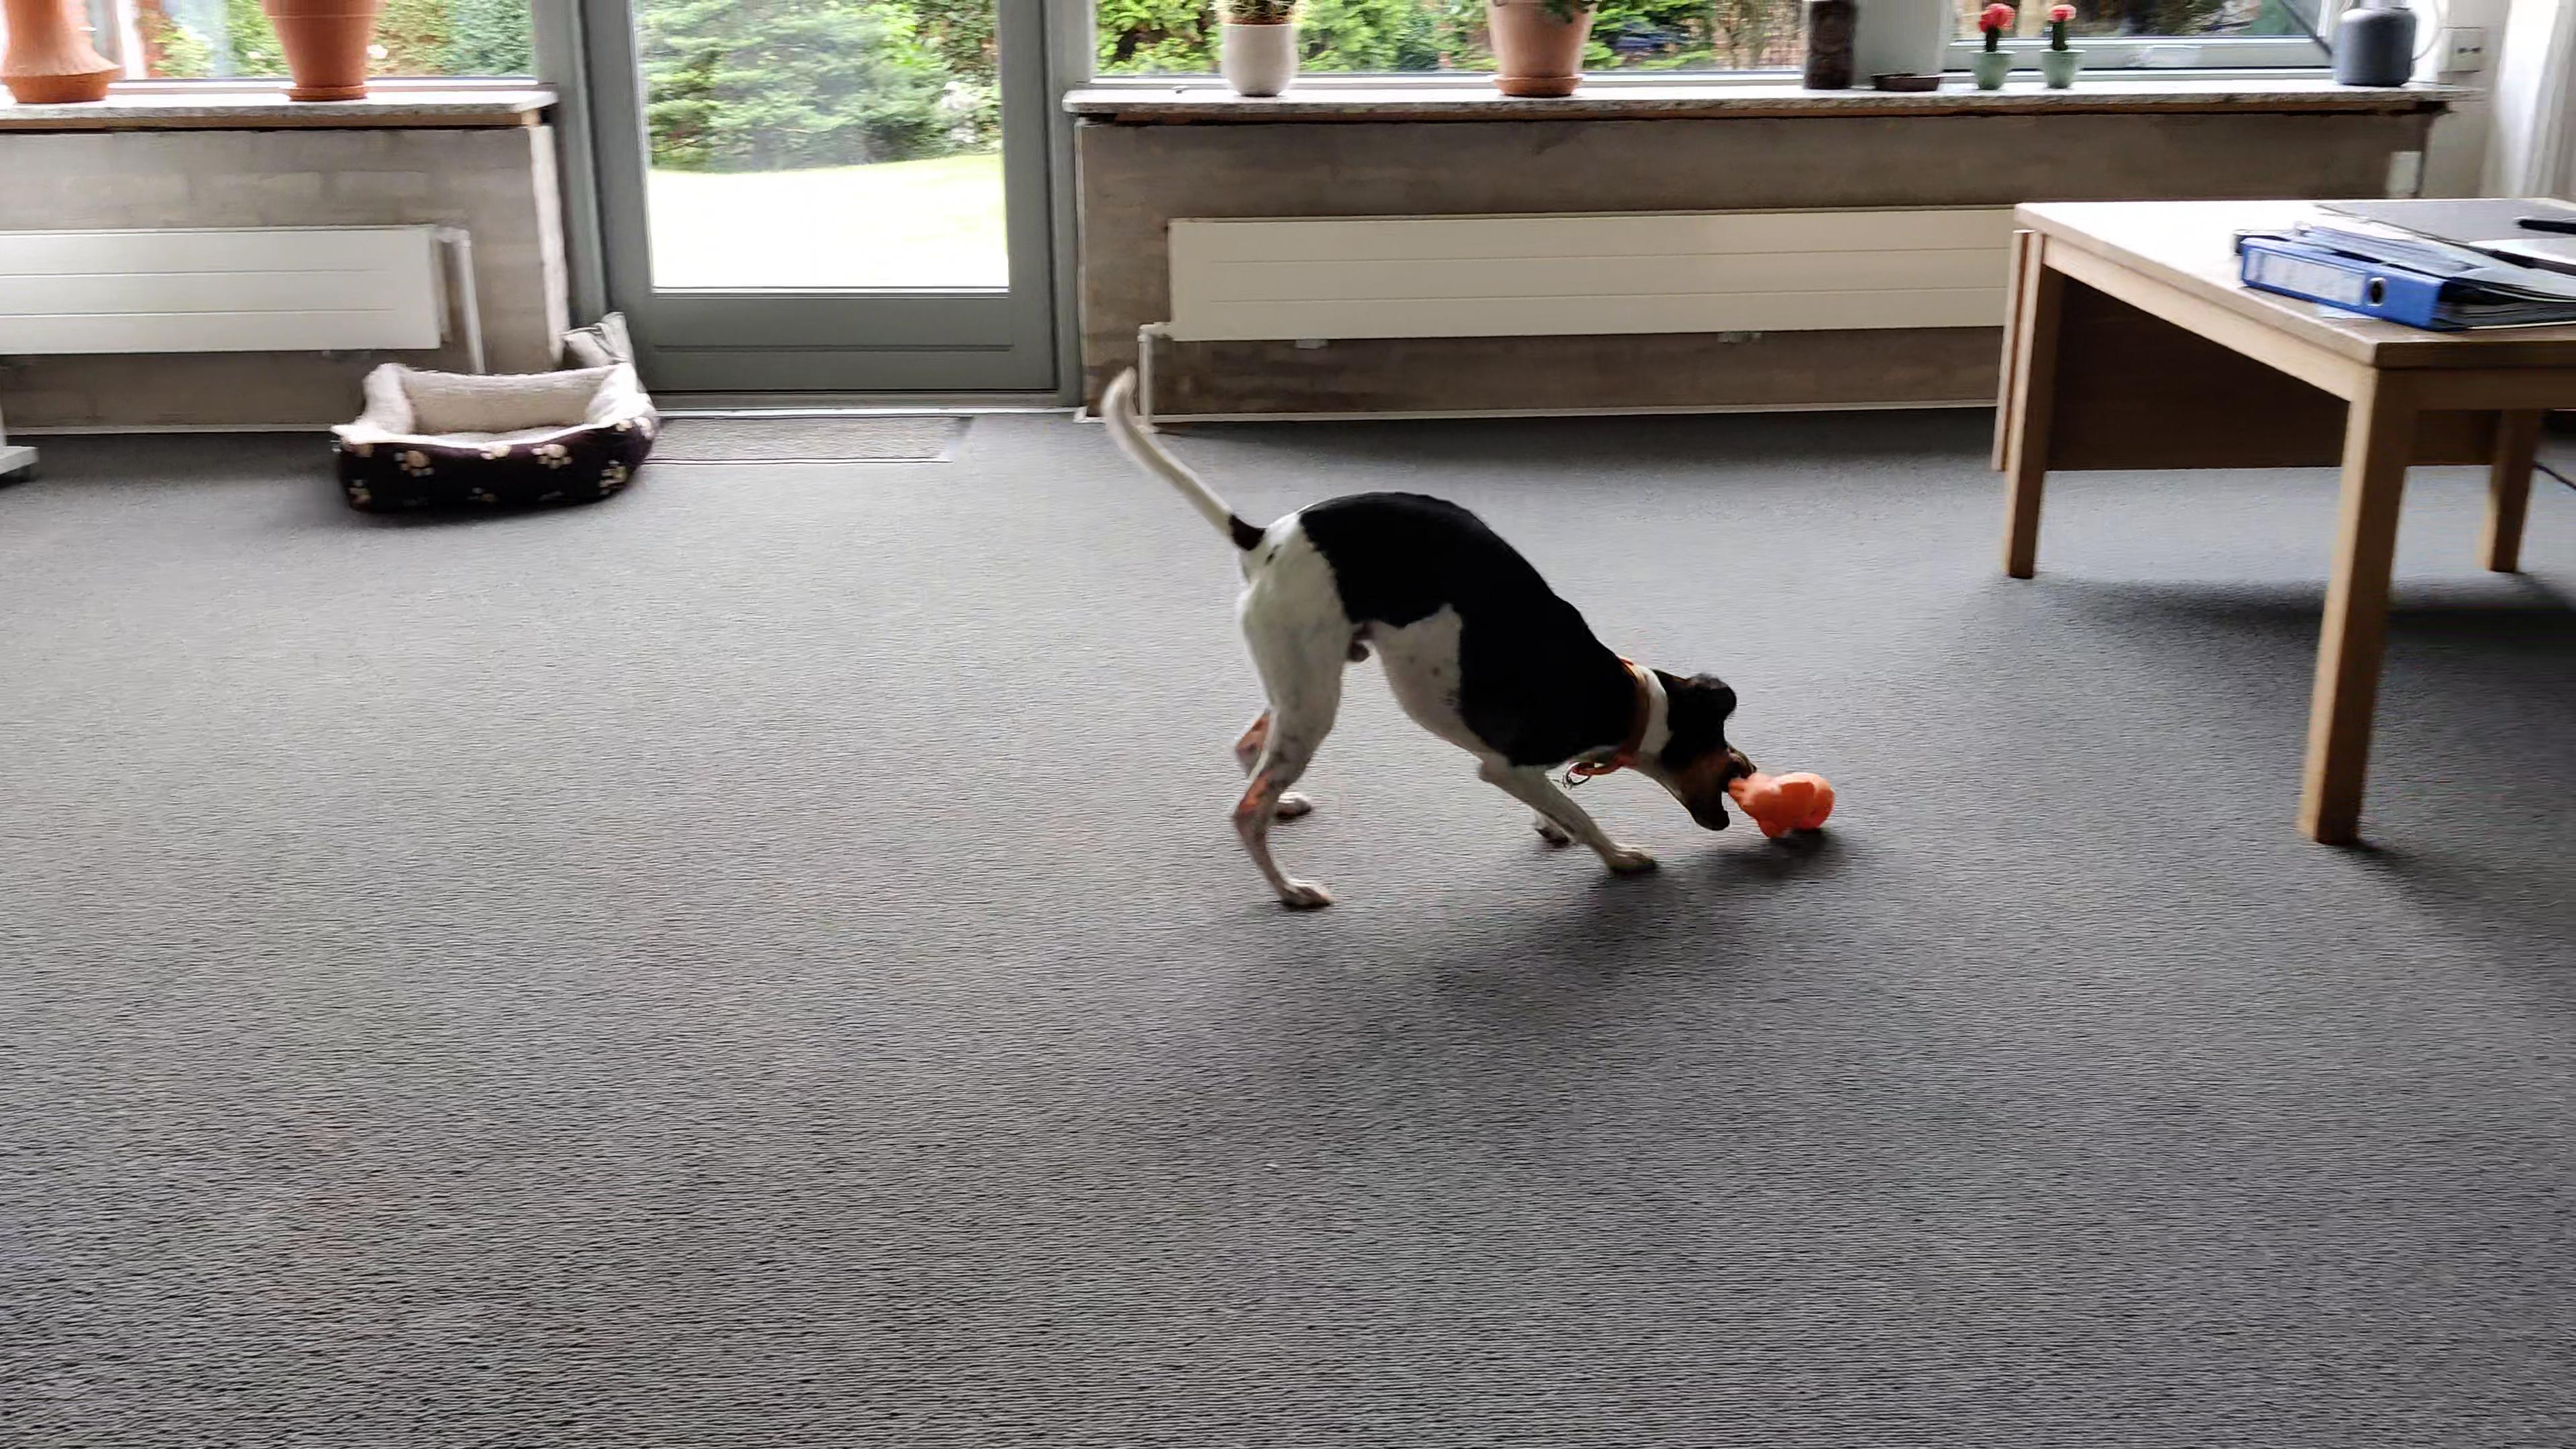Dog: (1063, 345, 1759, 932)
